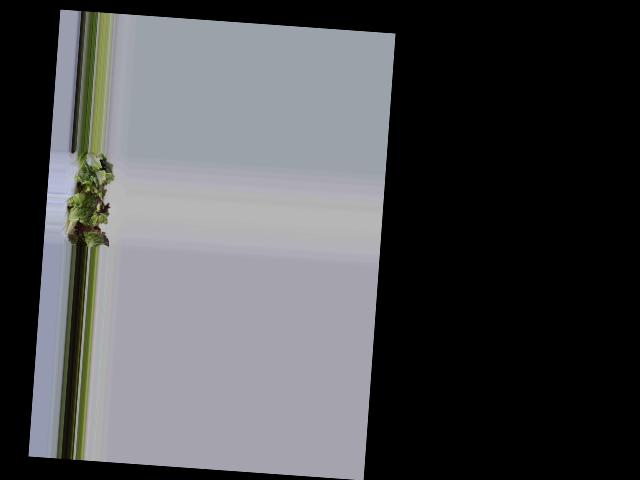lettuce: (70, 156, 111, 245)
